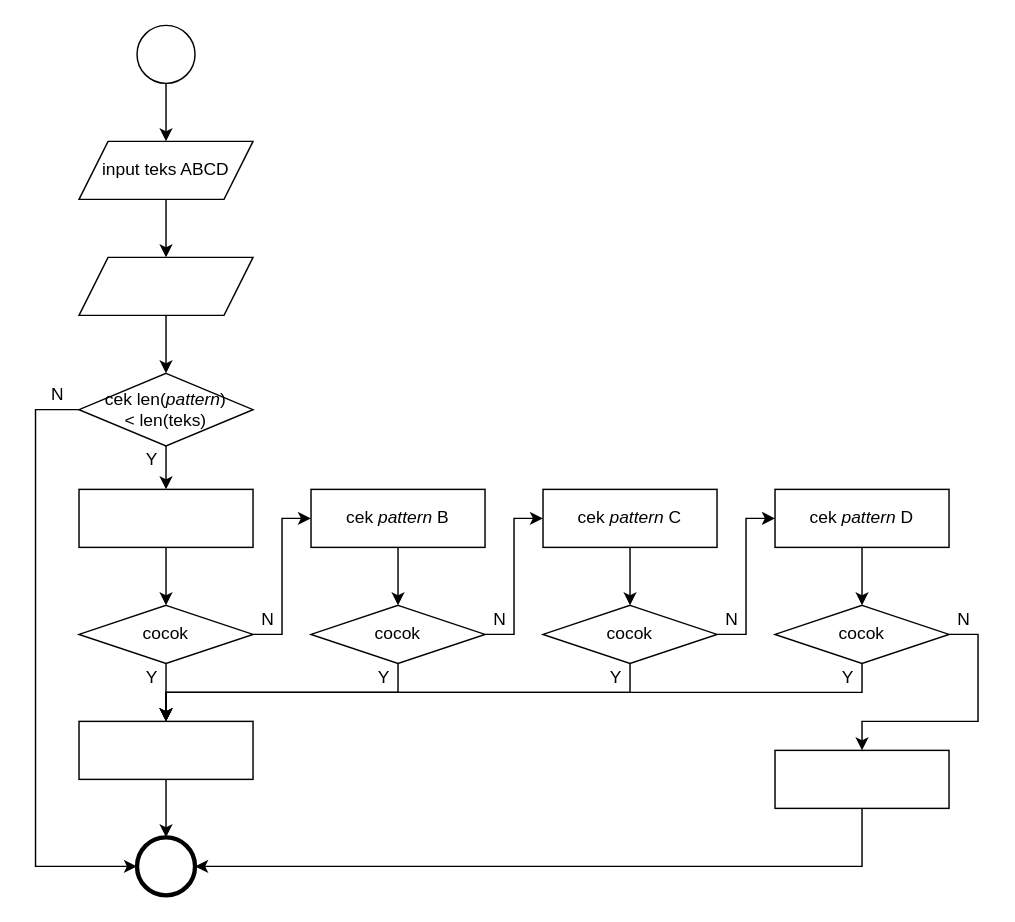
Some shapes in this 1015 by 922 pixel diagram are drawn without their labels. The shapes that lost their labels are listed below. From the top down, each one's centre as x and y in pixels, then its label:
At (165,285): "input pattern C".
At (165,517): "cek pattern A".
At (165,749): "pattern ditemukan".
At (861,778): "pattern tidak ditemukan".
